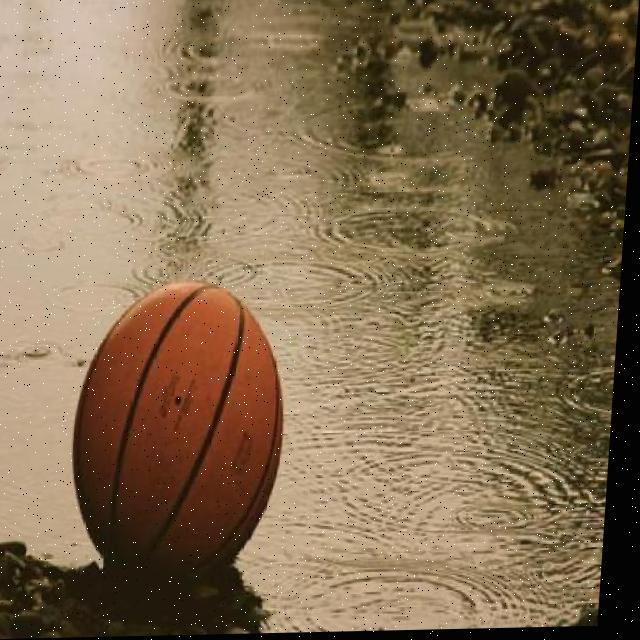Basketball: (62, 283, 289, 584)
